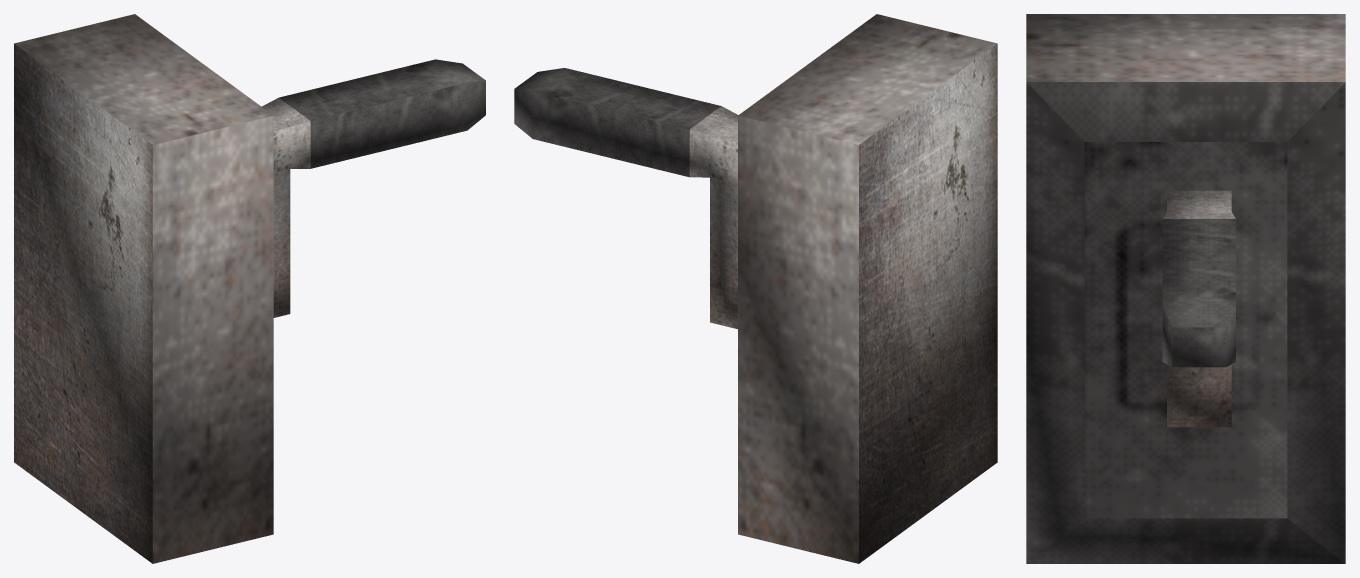
Rendered from Lever.fbx.
3 views of the same model, side by side, from view 1: azimuth 30°, elevation 25°; view 2: azimuth 150°, elevation 25°; view 3: azimuth 270°, elevation 25° (orthographic). The views are drawn at different scales.
Visible parts, largest first — view 1: Cube.011, Cube.013; view 2: Cube.011, Cube.013; view 3: Cube.011, Cube.013.
Part boxes in pixels (box(x1,y1,x2,y2)): Cube.011: box(14, 14, 273, 563); Cube.013: box(261, 59, 485, 317); Cube.011: box(738, 14, 997, 563); Cube.013: box(514, 68, 738, 329); Cube.011: box(1026, 14, 1345, 563); Cube.013: box(1162, 190, 1235, 427).
Bounding box in the file's own units: 85.2 × 85.95 × 51.63.
